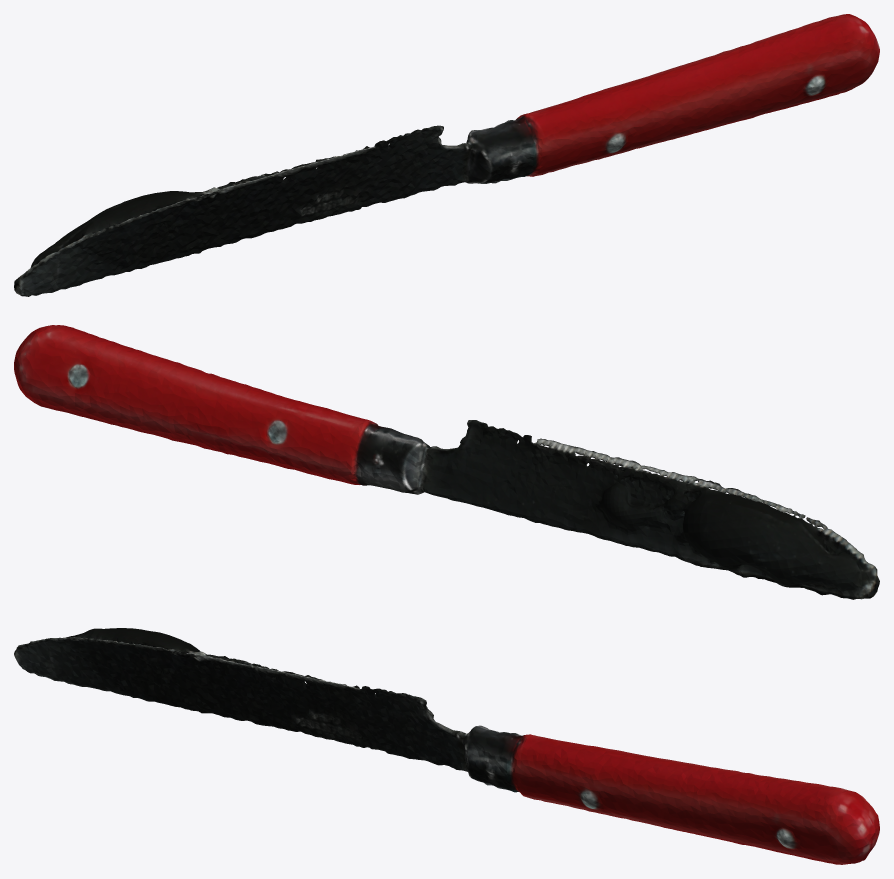
Rendered from knife.glb.
The picture shows the model from 3 angles, top to bottom: view 1: azimuth 30°, elevation 25°; view 2: azimuth 150°, elevation 25°; view 3: azimuth 330°, elevation 25°; orthographic projection.
Visible parts, largest first — view 1: textured.obj; view 2: textured.obj; view 3: textured.obj.
Boxes of the visible parts, <box> form: textured.obj: <box>14,14,879,296</box>; textured.obj: <box>14,325,879,599</box>; textured.obj: <box>14,628,879,864</box>.
Size of the model in its own units: 0.2149 by 0.0195 by 0.0153.
1 material, 1 textured.
